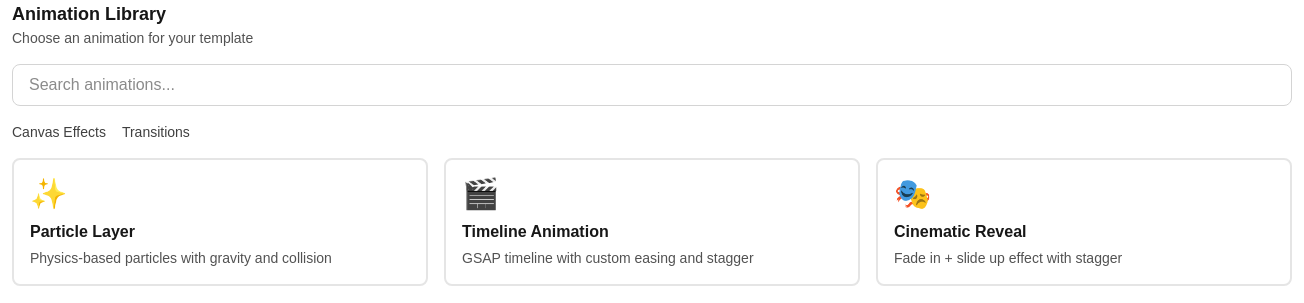
AnimationLibrary Component › Empty State › shows message when no animations match filter
Type "nonexistent" into the field with placeholder "Search animations..." at (652, 85), box [12,64,1292,106]
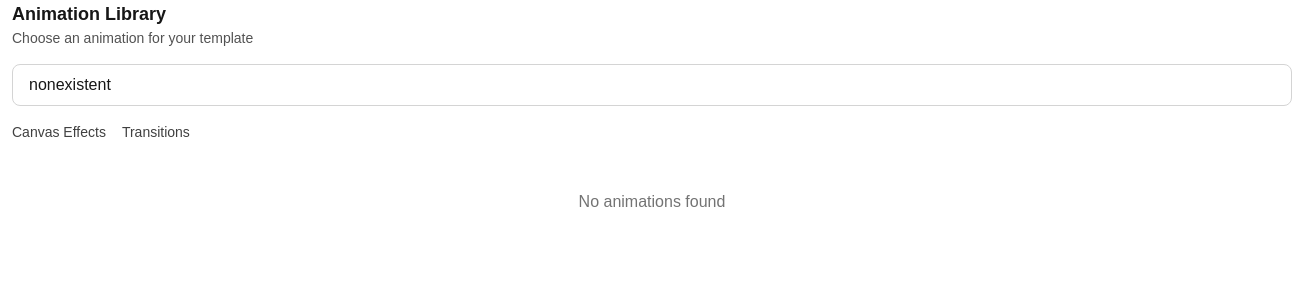
Expected: the text "No animations found" is shown, [579,193,725,210]
